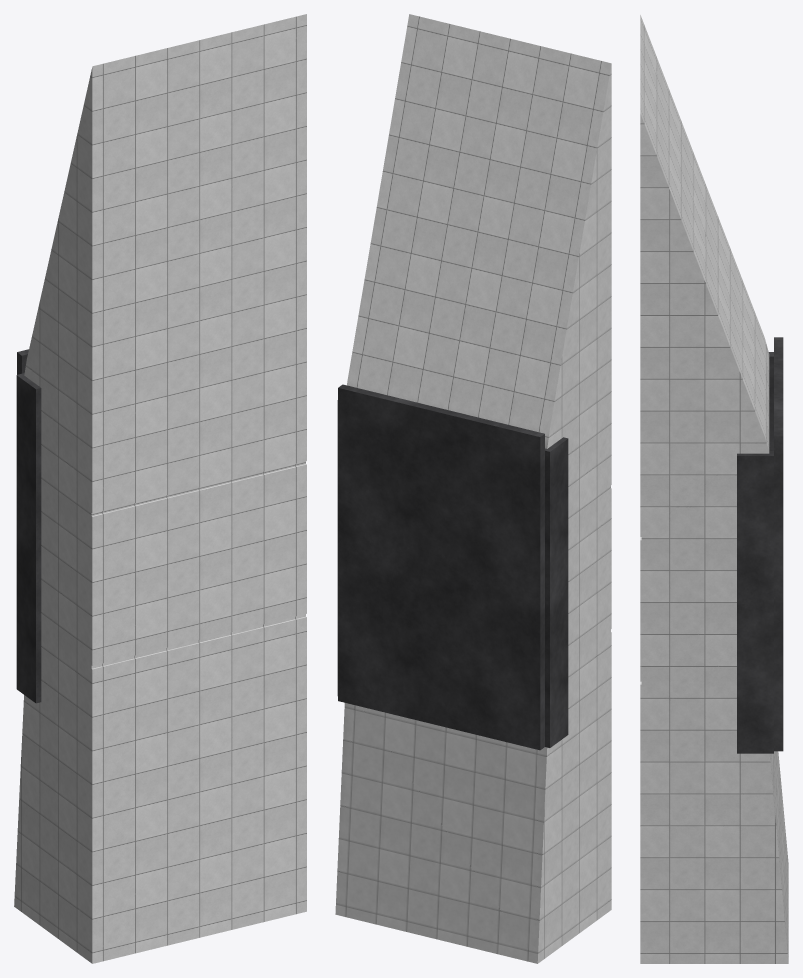
Rendered from ax_aero_31_jesc_scramjet_m.glb.
The picture shows the model from 3 angles, left to right: view 1: azimuth 30°, elevation 25°; view 2: azimuth 150°, elevation 25°; view 3: azimuth 270°, elevation 25°; orthographic projection. The views are drawn at different scales.
Parts seen in each view (by area): view 1: module, sidewalls; view 2: module, cowl, sidewalls; view 3: module, sidewalls, cowl.
Part boxes in pixels (x1,y1,x2,y2): module: (14,14,306,963); sidewalls: (16,373,41,703); module: (335,14,611,963); cowl: (338,384,544,750); sidewalls: (337,400,568,747); module: (640,15,788,963); sidewalls: (737,352,773,753); cowl: (774,337,783,751).
Bounding box in the file's own units: 1.05 × 4 × 0.6325.
Materials: 3 (2 with a texture image).
